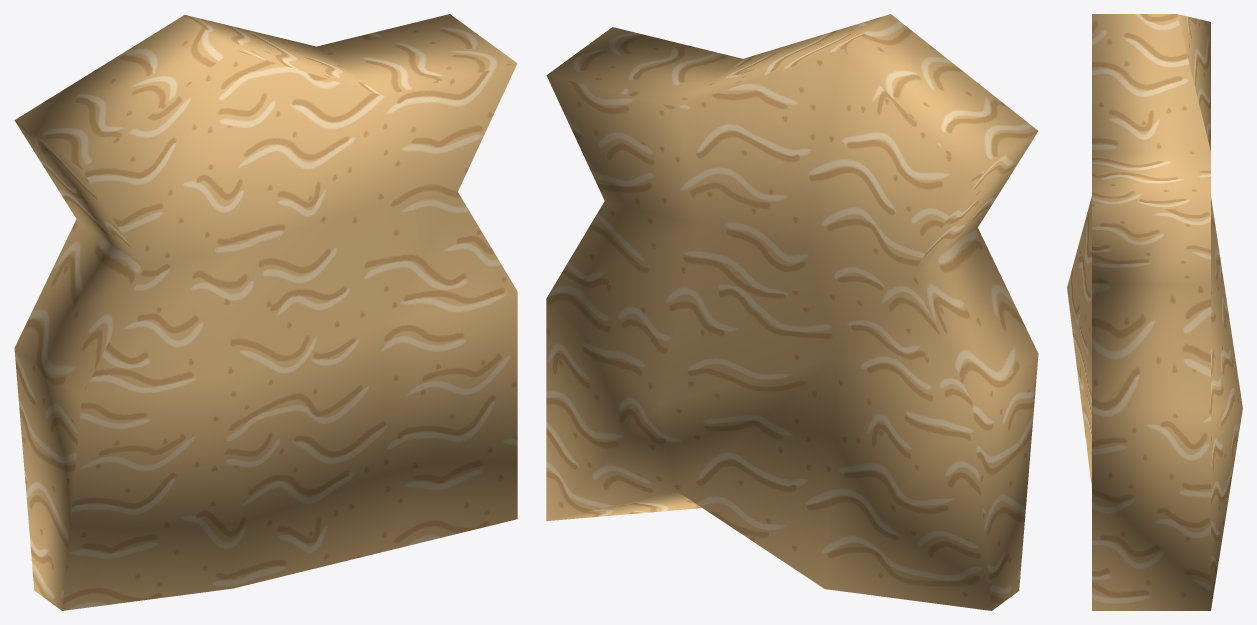
The model's file is item-bark-chip-sand.glb.
3 renders of one model, left to right at view 1: azimuth 30°, elevation 25°; view 2: azimuth 150°, elevation 25°; view 3: azimuth 270°, elevation 25°, orthographic. The views are drawn at different scales.
Bounding box in the file's own units: 2 × 2.36 × 0.7938.
1 material, 1 textured.
